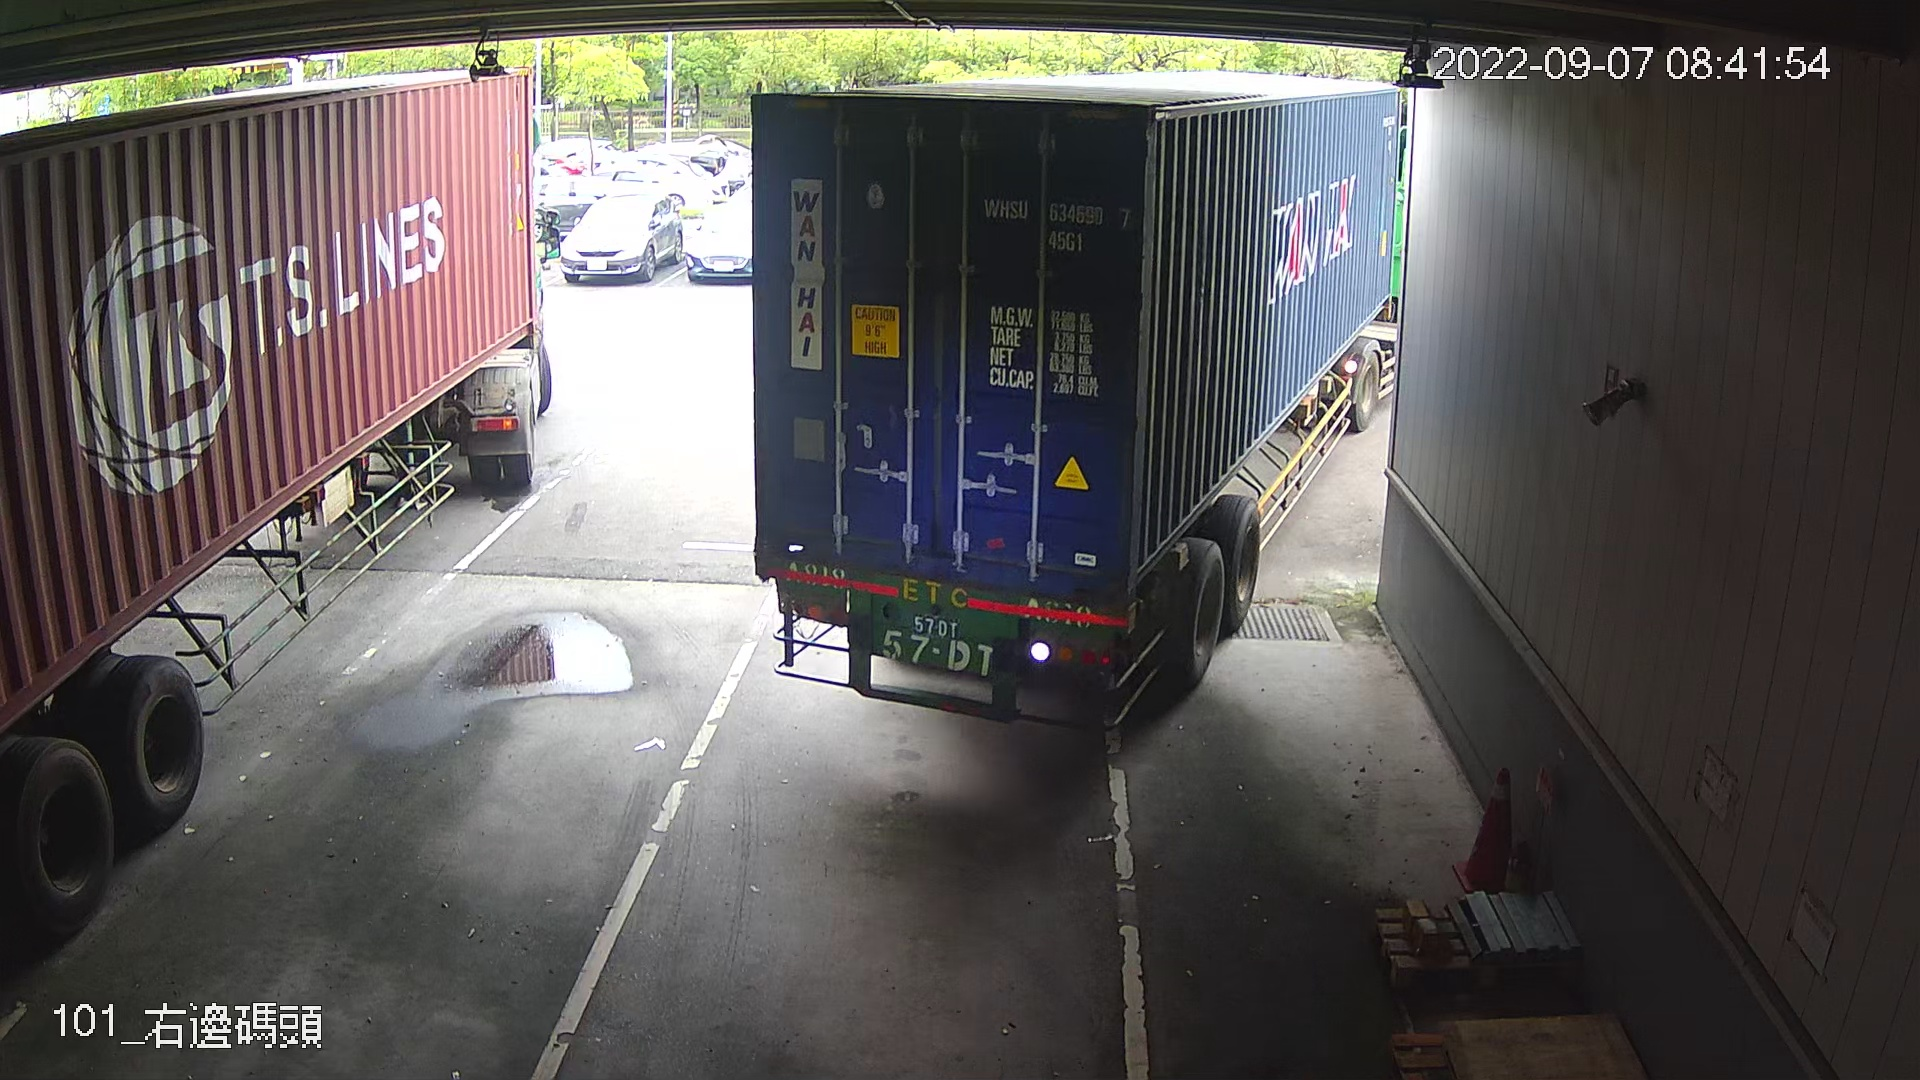container: (975, 179, 1137, 258)
